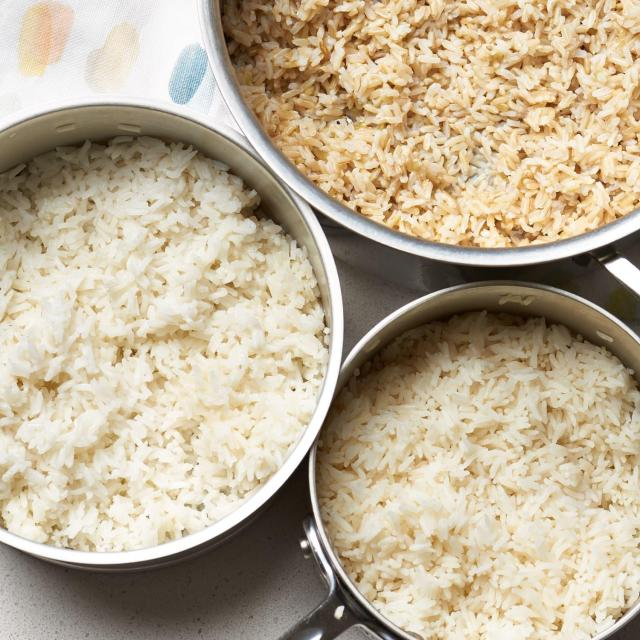rice: (0, 142, 324, 550), (230, 0, 640, 247), (321, 321, 640, 633)
